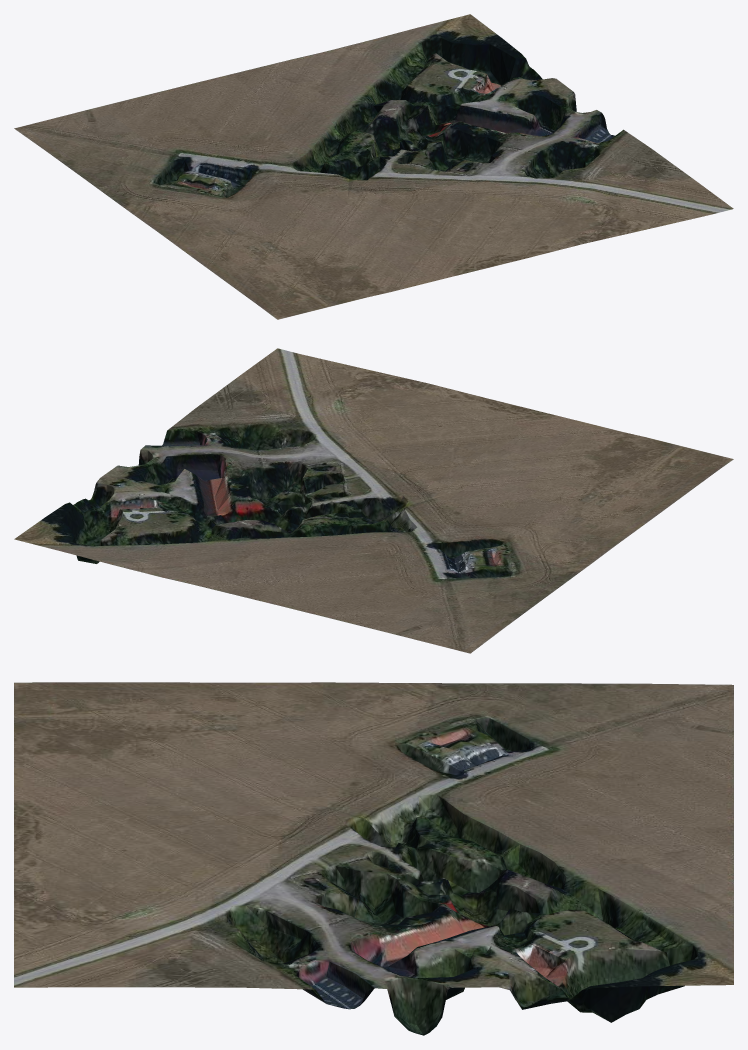
File: map_13_2043_3443.dae
3 renders of one model, top to bottom at view 1: azimuth 30°, elevation 25°; view 2: azimuth 150°, elevation 25°; view 3: azimuth 270°, elevation 25°, orthographic. The views are drawn at different scales.
Parts seen in each view (by area): view 1: Ter0; view 2: Ter0; view 3: Ter0.
Boxes of the visible parts, box(x1,y1,x2,y2) form: Ter0: box(14, 14, 733, 319); Ter0: box(14, 348, 733, 653); Ter0: box(14, 682, 733, 1035).
Bounding box in the file's own units: 256 × 256 × 21.45.
3 materials, 3 textured.
